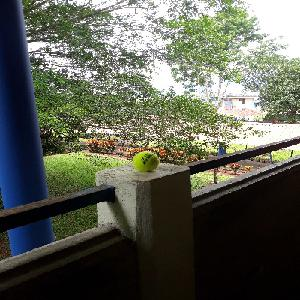Ball: (133, 152, 156, 171)
